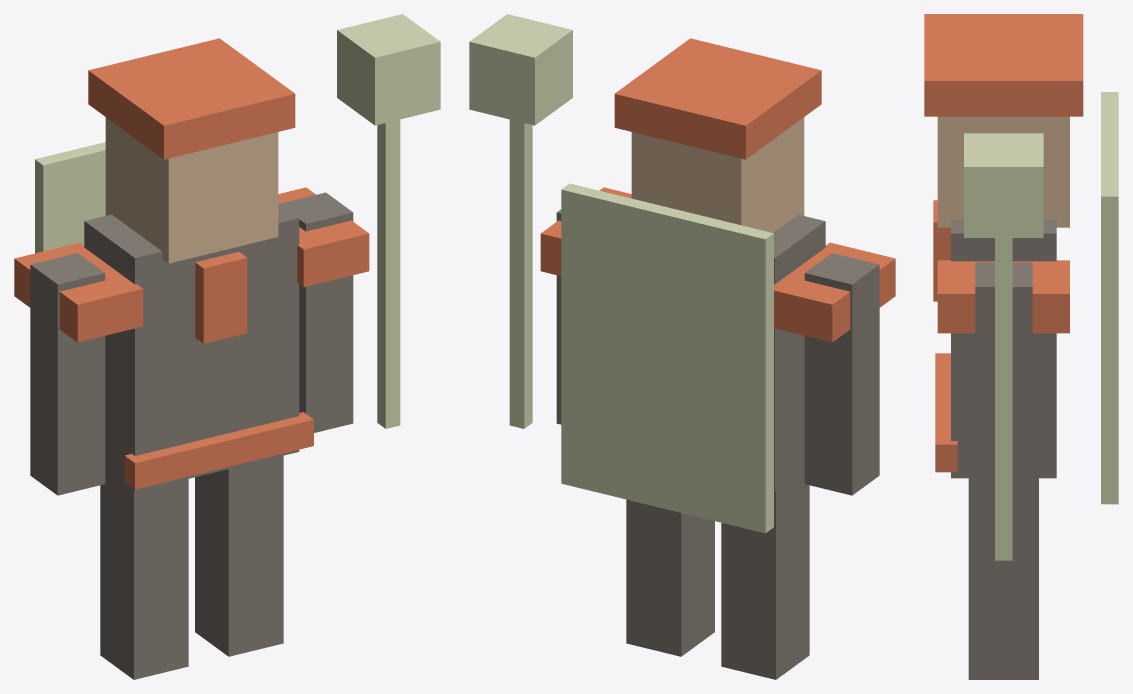
File: 06_ren_ironwake_engineer_under_memory.glb
3 views of the same model, side by side, from view 1: azimuth 30°, elevation 25°; view 2: azimuth 150°, elevation 25°; view 3: azimuth 270°, elevation 25° (orthographic). The views are drawn at different scales.
Parts seen in each view (by area): view 1: Ren Ironwake, Engineer under Memory; view 2: Ren Ironwake, Engineer under Memory; view 3: Ren Ironwake, Engineer under Memory.
Part boxes in pixels (<box>): Ren Ironwake, Engineer under Memory: <box>14,14,440,679</box>; Ren Ironwake, Engineer under Memory: <box>469,14,895,679</box>; Ren Ironwake, Engineer under Memory: <box>924,14,1118,679</box>.
Size of the model in its own units: 1.12 by 1.61 by 0.4771.
